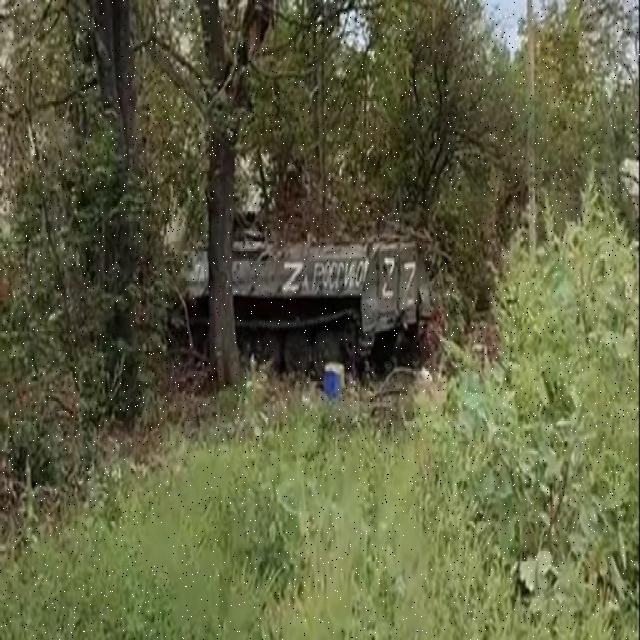APC-IFV: (148, 208, 442, 382)
